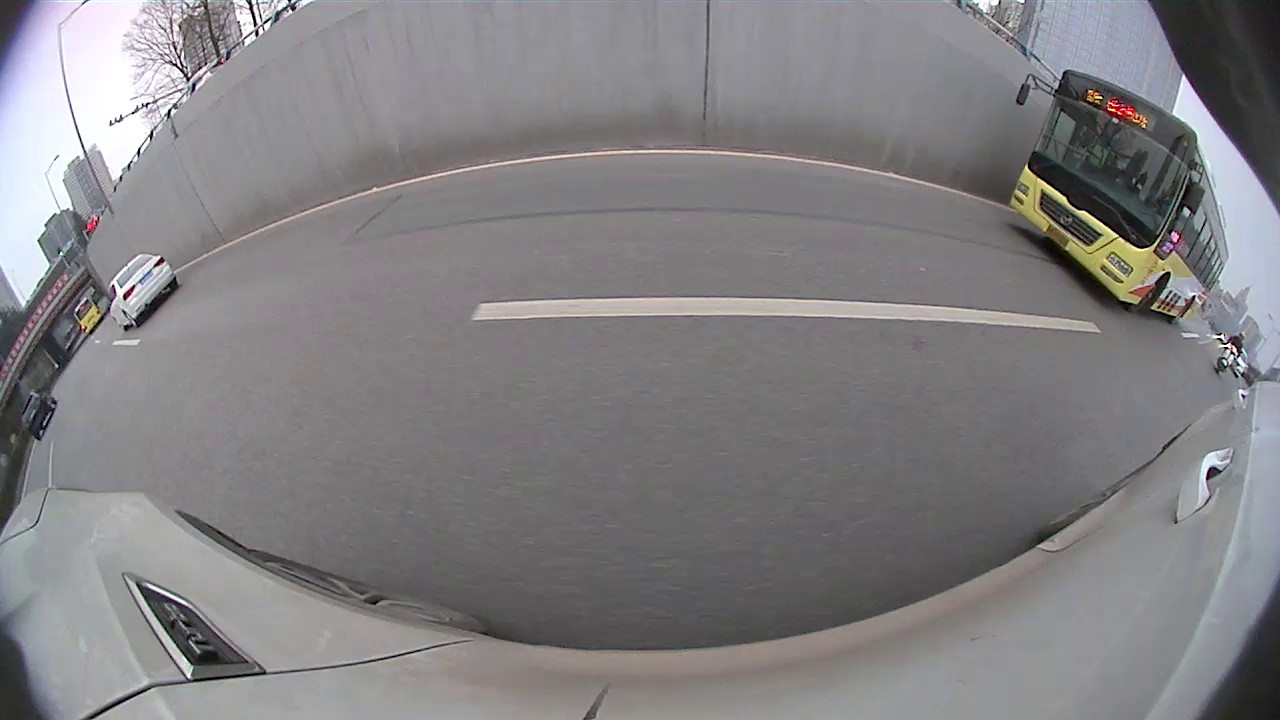bus: (1016, 66, 1229, 325)
car: (104, 252, 179, 331), (20, 388, 58, 439)
front: (1128, 273, 1172, 315)
rear: (1165, 295, 1197, 331)
rider: (1209, 331, 1248, 375)
